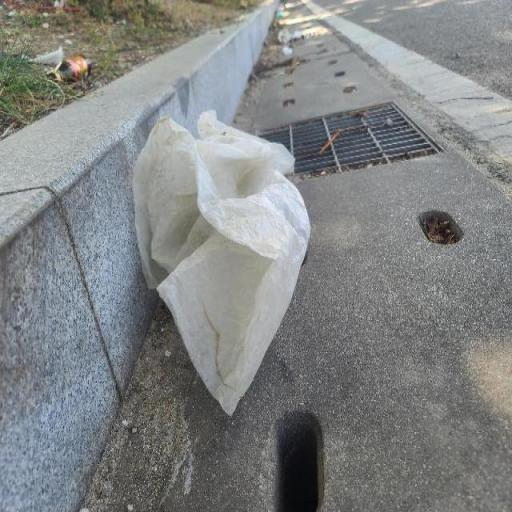plastic-bag: (130, 109, 316, 422)
